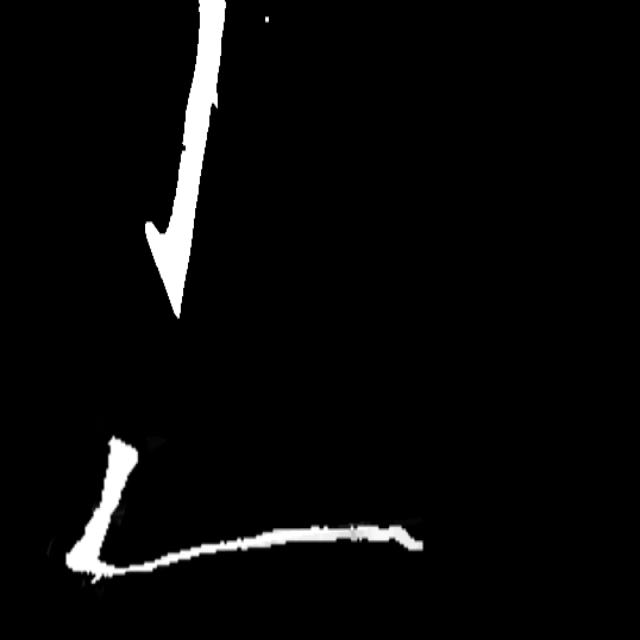sup_pli: (88, 565, 106, 590)
